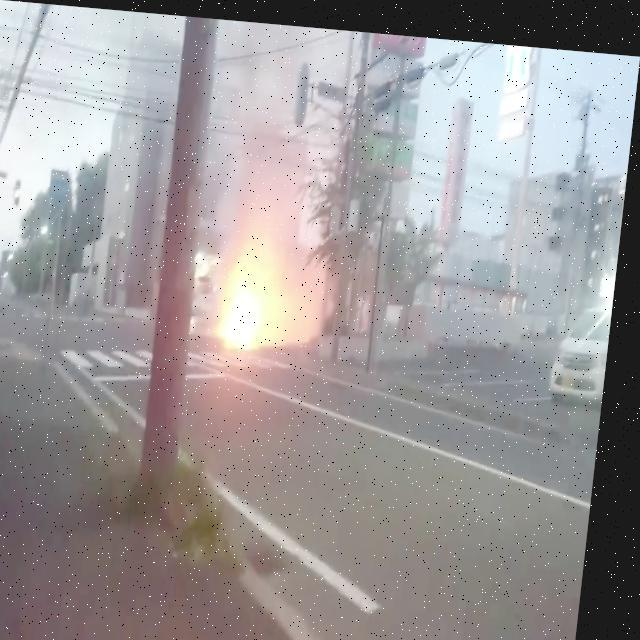Fire: (221, 238, 297, 349)
